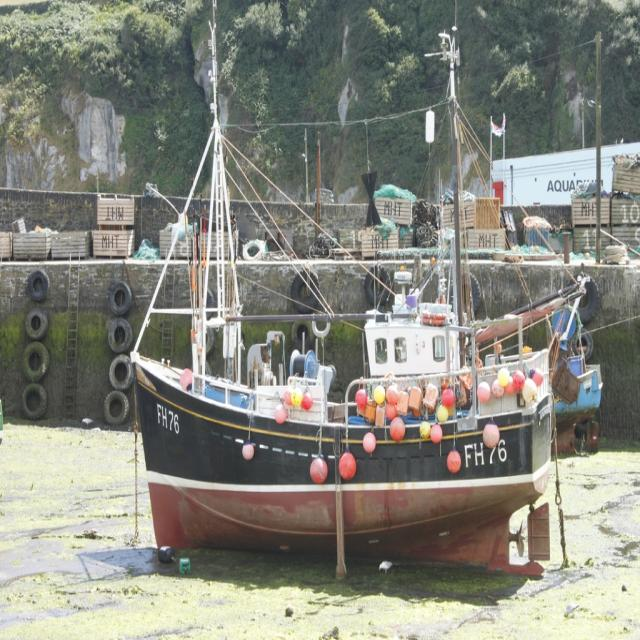Boat: (128, 0, 592, 575)
